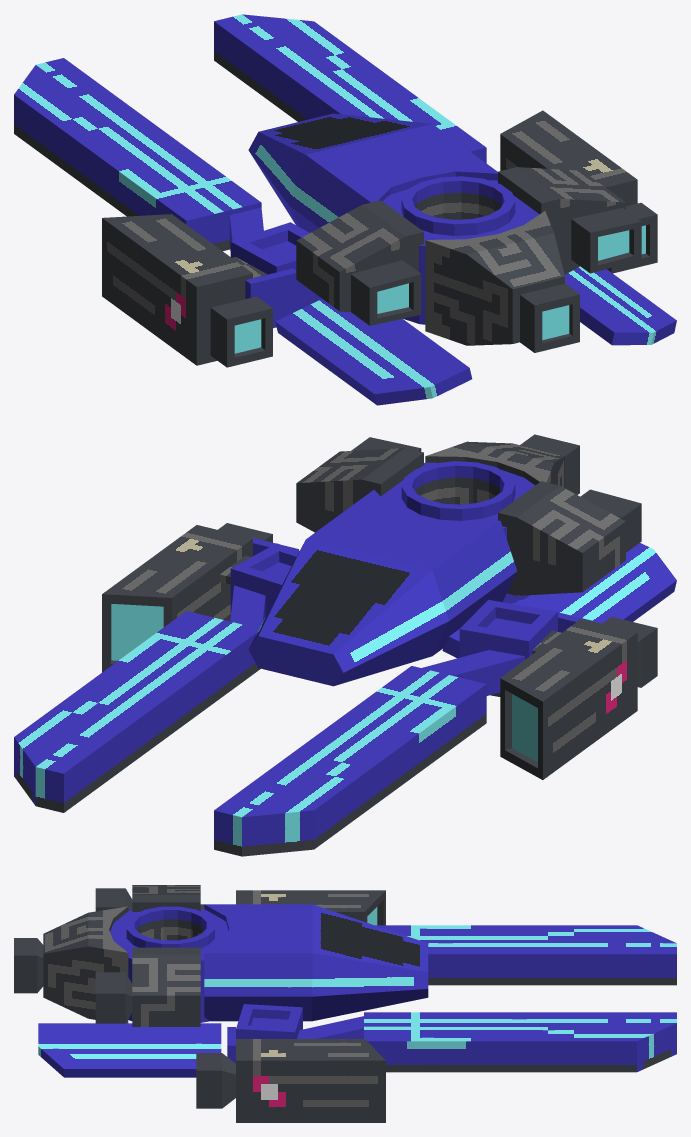
Rendered from spaceship.gltf.
The picture shows the model from 3 angles, top to bottom: view 1: azimuth 30°, elevation 25°; view 2: azimuth 150°, elevation 25°; view 3: azimuth 270°, elevation 25°; orthographic projection. The views are drawn at different scales.
Visible parts, largest first — view 1: cuboid (×13), tube; view 2: cuboid (×13), tube; view 3: cuboid (×11), tube.
Boxes of the visible parts, bbox=[...] form: cuboid (×13): bbox=[14, 14, 676, 405]; tube: bbox=[383, 176, 539, 324]; cuboid (×13): bbox=[14, 434, 676, 856]; tube: bbox=[381, 461, 534, 603]; cuboid (×11): bbox=[14, 885, 676, 1122]; tube: bbox=[110, 906, 228, 1022].
Bounding box in the file's own units: 2.94 × 0.9062 × 4.83.
1 material, 1 textured.
